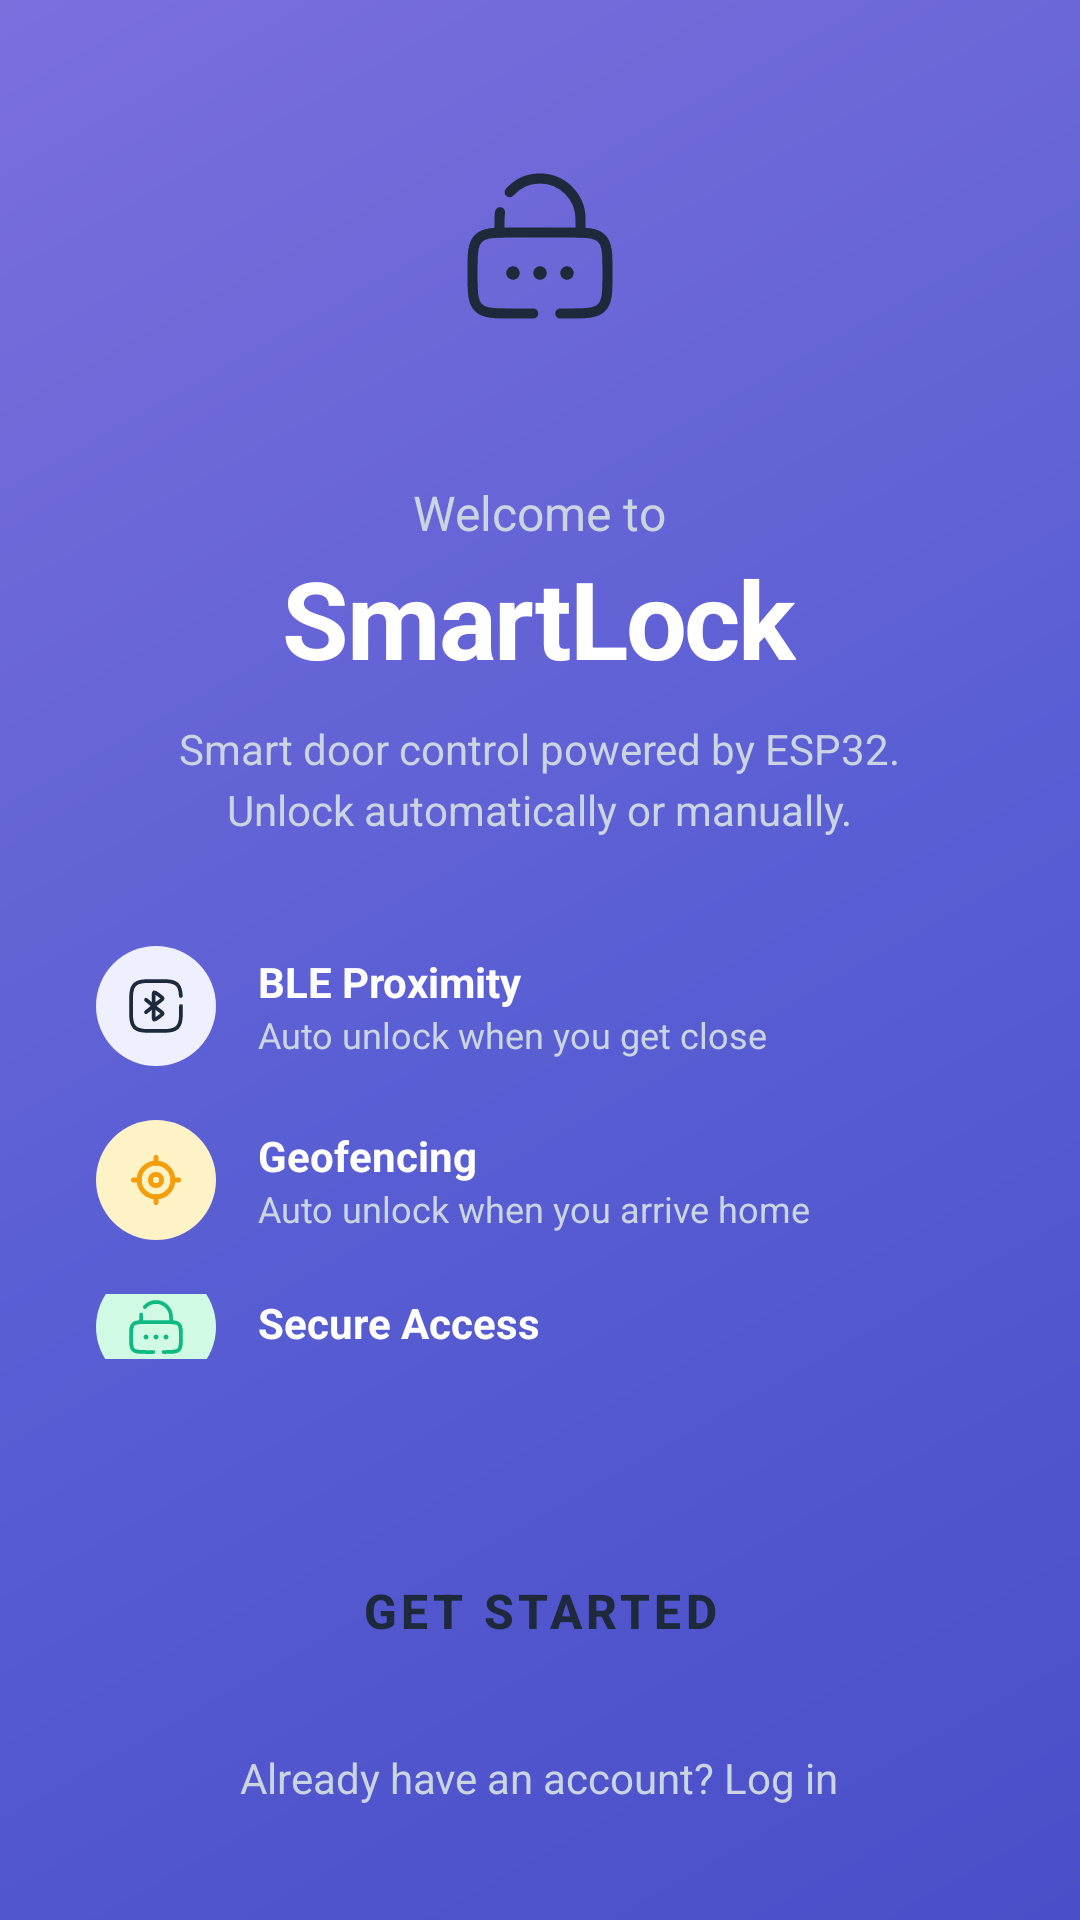

Named icons in this screenshot (1080x1920) and their bounding boxes, bbox=(x1, y1, x2, y2):
location: bbox=(131, 1155, 181, 1205)
